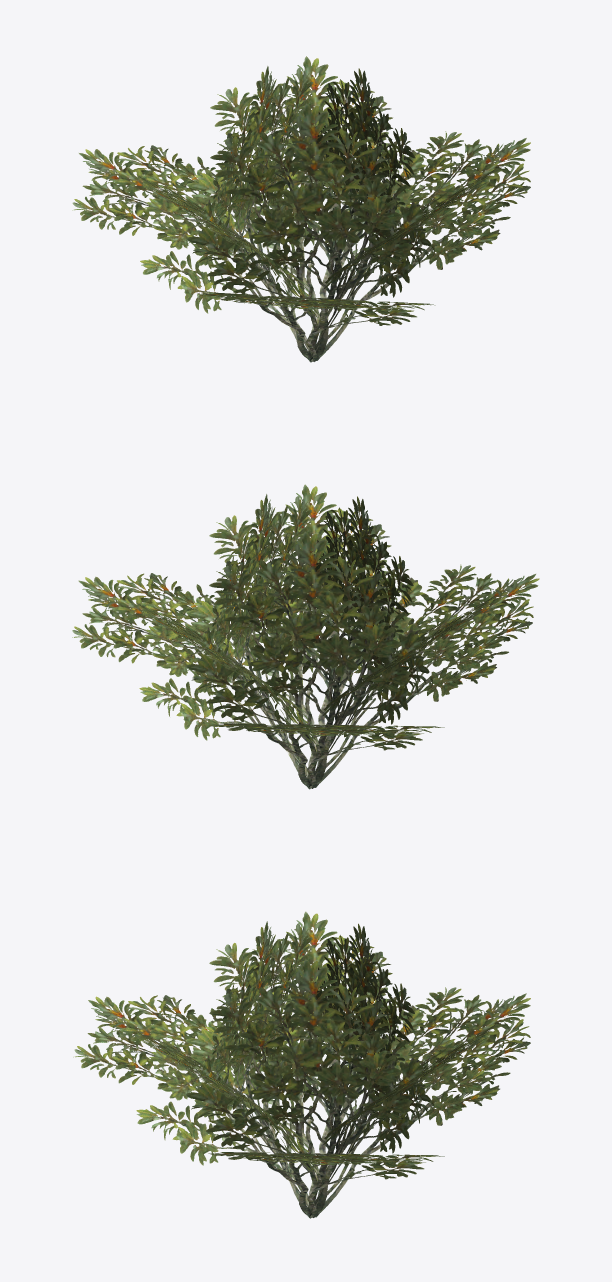
The model's file is bush5.FBX.
3 views of the same model, one above another, from view 1: azimuth 30°, elevation 25°; view 2: azimuth 150°, elevation 25°; view 3: azimuth 270°, elevation 25° (orthographic).
Parts seen in each view (by area): view 1: bush5; view 2: bush5; view 3: bush5.
Boxes of the visible parts, x1,y1,x2,y2 form: bush5: (72, 56, 530, 362); bush5: (72, 484, 539, 789); bush5: (73, 911, 530, 1218).
Bounding box in the file's own units: 83.76 × 50.9 × 92.77.
